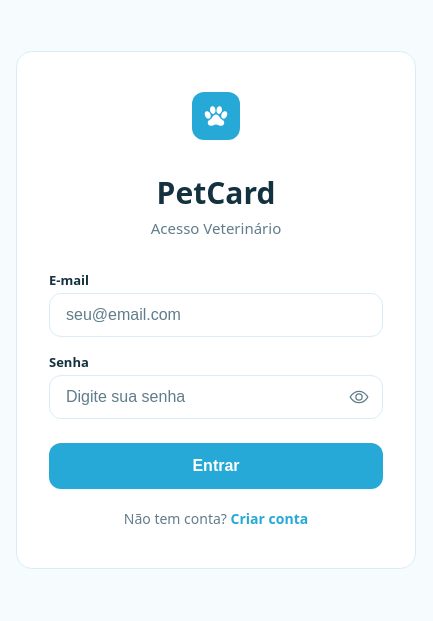
Scenario: VetLoginPage › mostra erro de credenciais inválidas no 401 e não navega
In the field labelled "E-mail": (216, 315) [49,293,383,337], type "vet@petcard.com"
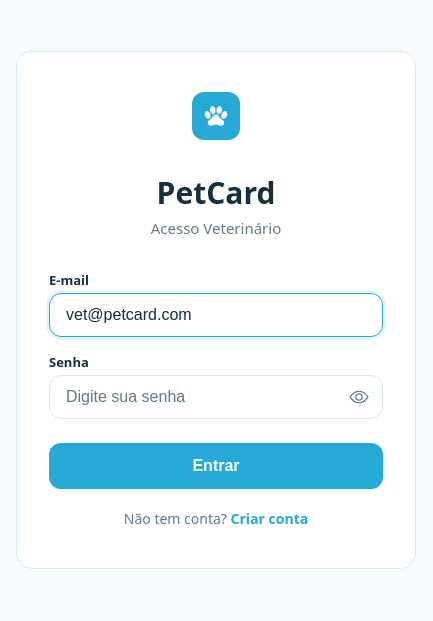
In the password field labelled "Senha": (216, 397) [49,375,383,419], type "errada"
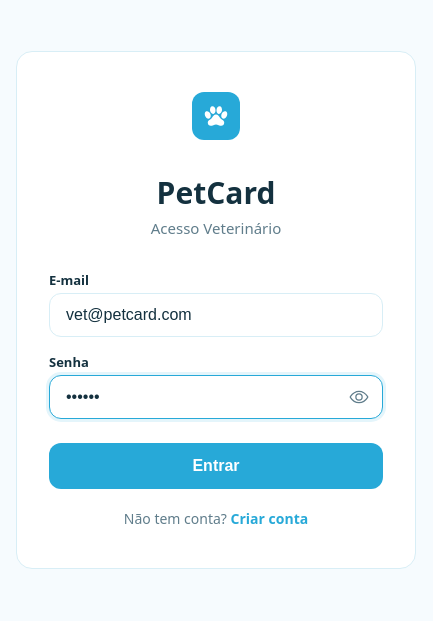
Click the button "Entrar": (216, 466) [49,443,383,489]
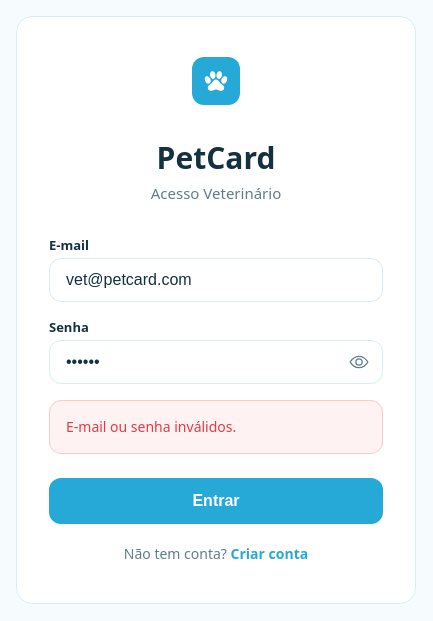
expect the text "E-mail ou senha inválidos." is shown: met, box [49,400,383,454]
